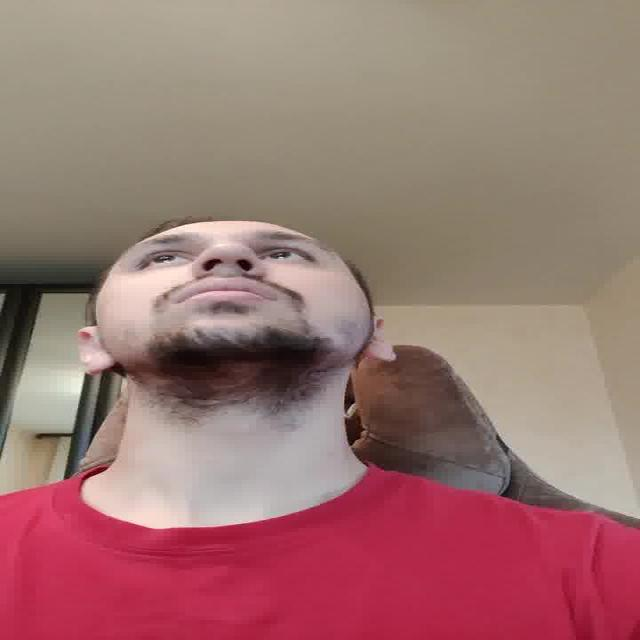earlobe: (368, 344, 399, 364), (81, 360, 116, 376)
eye: (138, 250, 194, 268), (260, 248, 314, 262)
nose: (192, 262, 260, 280)
wholeear: (76, 327, 116, 375), (365, 316, 401, 363)
